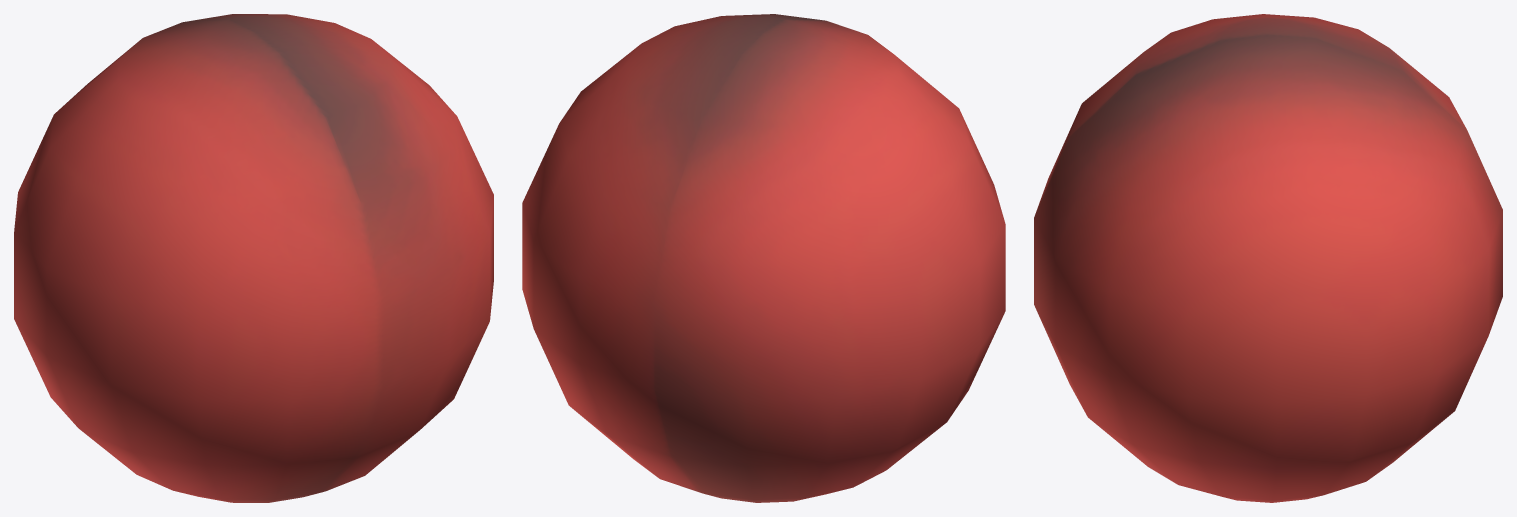
File: SM_Gem_A_Gold.fbx
3 renders of one model, left to right at view 1: azimuth 30°, elevation 25°; view 2: azimuth 150°, elevation 25°; view 3: azimuth 270°, elevation 25°, orthographic.
Parts seen in each view (by area): view 1: SM_Gem_A_Gold_LOD0; view 2: SM_Gem_A_Gold_LOD0; view 3: SM_Gem_A_Gold_LOD0.
Part boxes in pixels (box(x1,y1,x2,y2)): SM_Gem_A_Gold_LOD0: box(14, 14, 493, 502); SM_Gem_A_Gold_LOD0: box(522, 14, 1005, 502); SM_Gem_A_Gold_LOD0: box(1034, 14, 1502, 502).
Bounding box in the file's own units: 4.38 × 4.23 × 4.43.
Materials: 1 (1 with a texture image).
